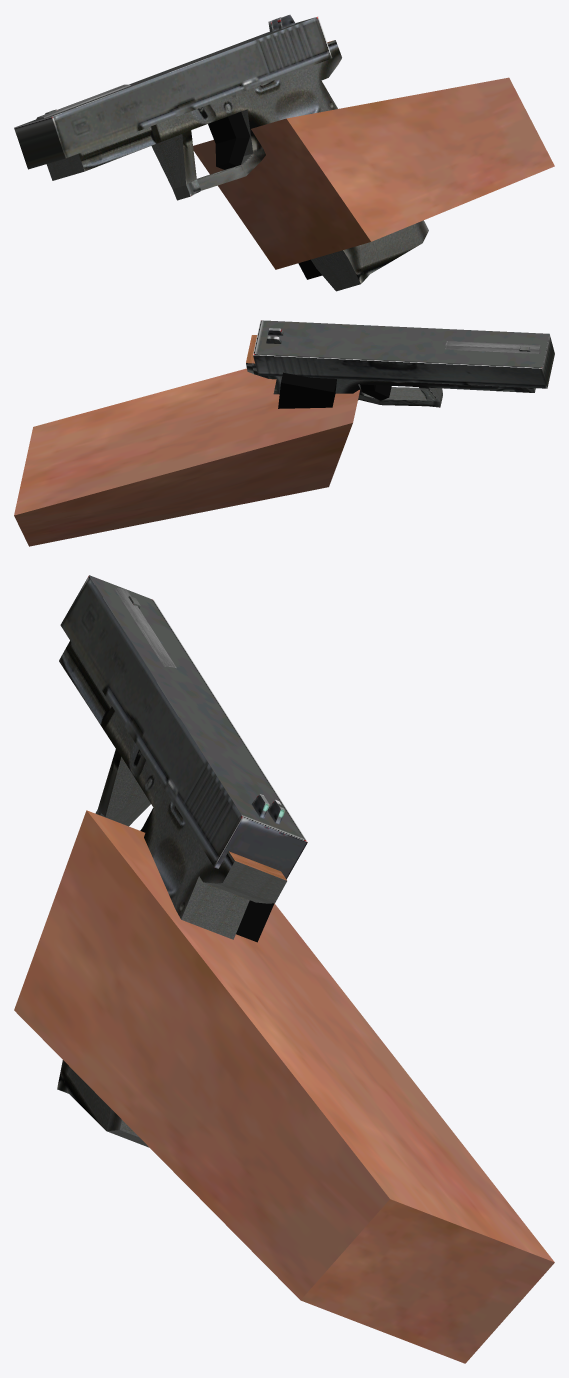
File: pistol_000020.obj
3 renders of one model, top to bottom at view 1: azimuth 30°, elevation 25°; view 2: azimuth 150°, elevation 25°; view 3: azimuth 270°, elevation 25°, orthographic. The views are drawn at different scales.
Parts seen in each view (by area): view 1: Cube, Cube.001, Cube.003; view 2: Cube, Cube.001, Cube.002, Cube.003; view 3: Cube, Cube.001, Cube.002.
Boxes of the visible parts, x1,y1,x2,y2 form: Cube: (35, 40, 554, 291); Cube.001: (14, 14, 332, 169); Cube.003: (208, 112, 249, 169); Cube: (14, 335, 540, 546); Cube.001: (253, 320, 554, 388); Cube.002: (278, 372, 336, 408); Cube.003: (360, 384, 391, 400); Cube: (14, 587, 554, 1363); Cube.001: (60, 575, 307, 879); Cube.002: (236, 900, 274, 942).
Bounding box in the file's own units: 1.72 × 0.8632 × 0.995.
